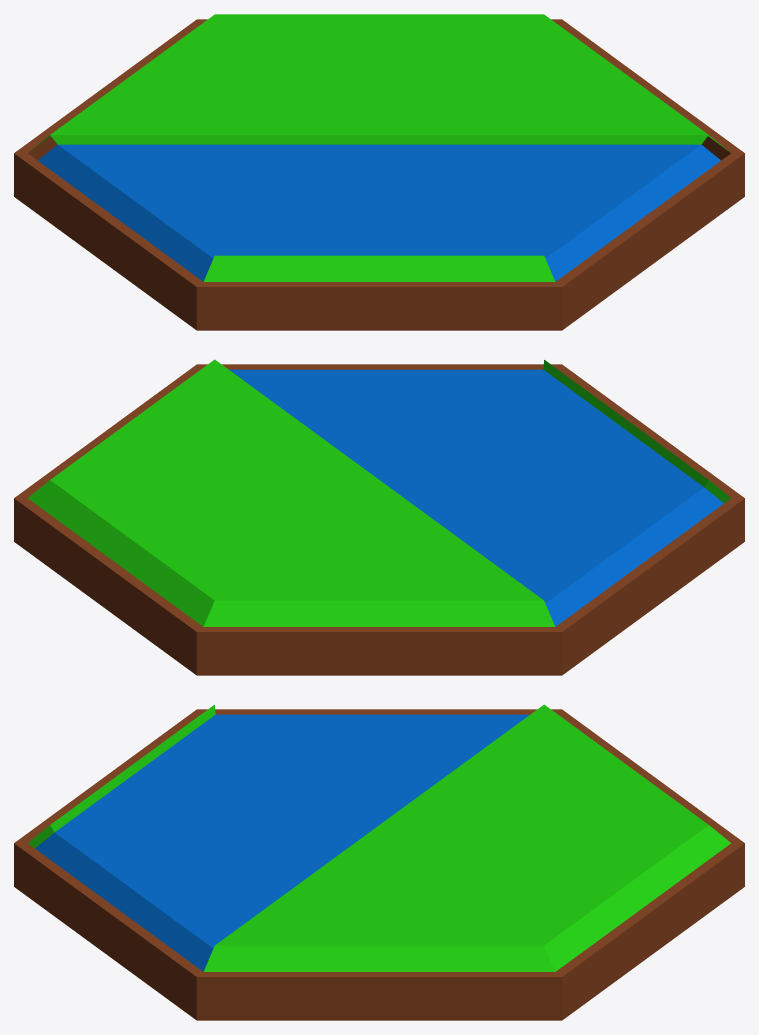
The picture shows the model from 3 angles, top to bottom: view 1: azimuth 30°, elevation 25°; view 2: azimuth 150°, elevation 25°; view 3: azimuth 270°, elevation 25°; orthographic projection.
Parts seen in each view (by area): view 1: SV4; view 2: SV4; view 3: SV4.
Part boxes in pixels (x1,y1,x2,y2): SV4: (14,14,744,330); SV4: (14,359,744,675); SV4: (14,704,744,1020).
Bounding box in the file's own units: 173 × 18.65 × 200.
